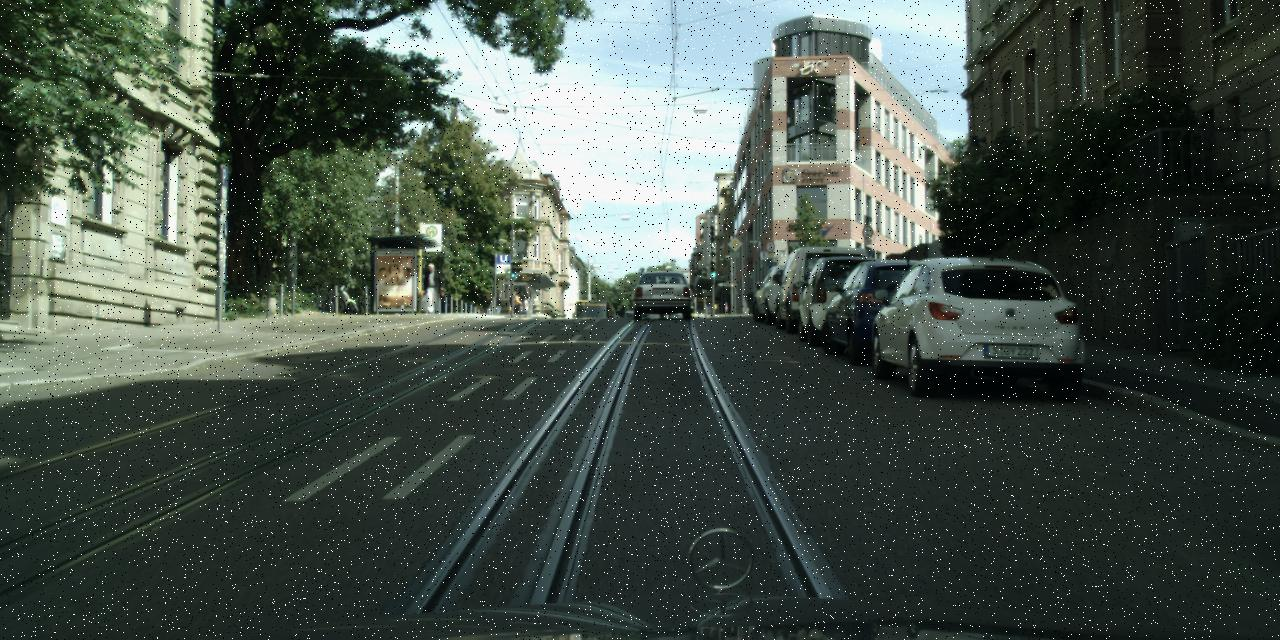ped: (422, 263, 442, 312), (492, 290, 502, 314), (512, 292, 521, 314), (522, 296, 530, 318)
